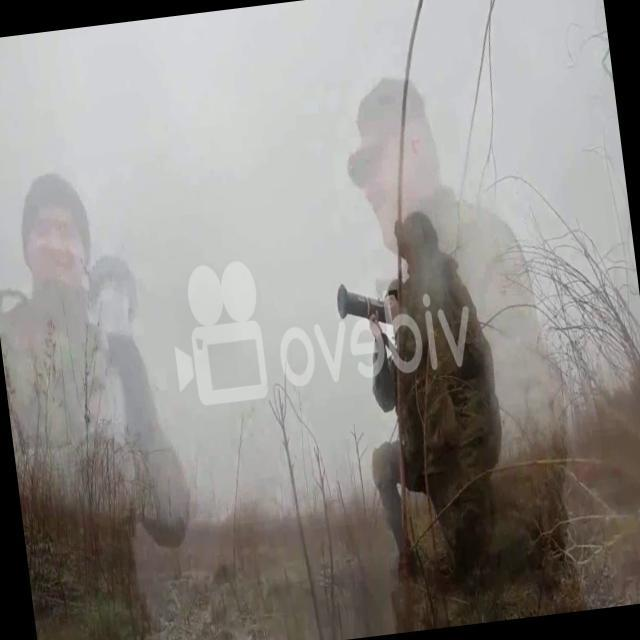rocket: (335, 284, 387, 326)
